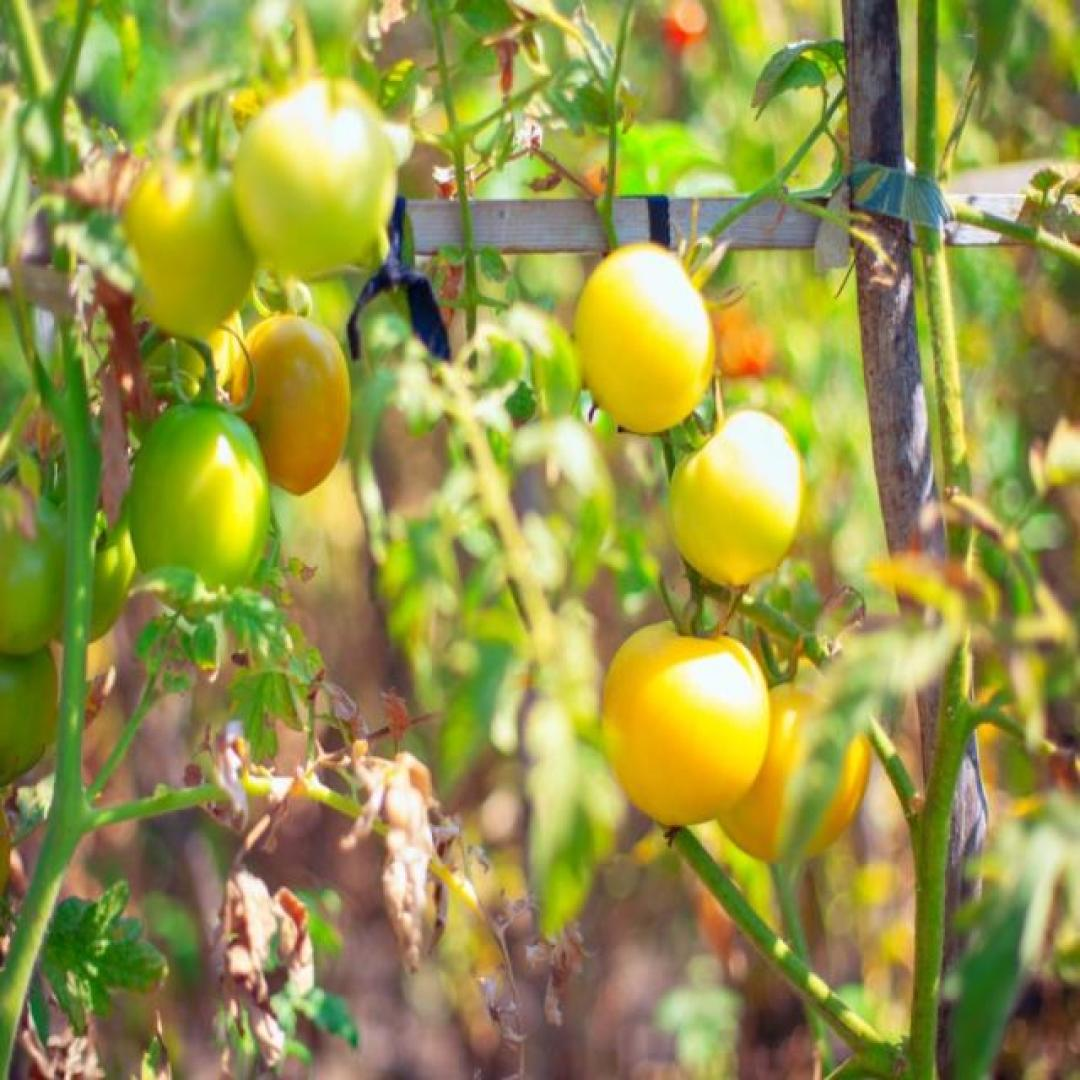mentah: (126, 395, 273, 619)
setengah_matang: (598, 616, 774, 822), (709, 653, 872, 861), (570, 238, 719, 435), (661, 405, 806, 589), (231, 310, 353, 498)
